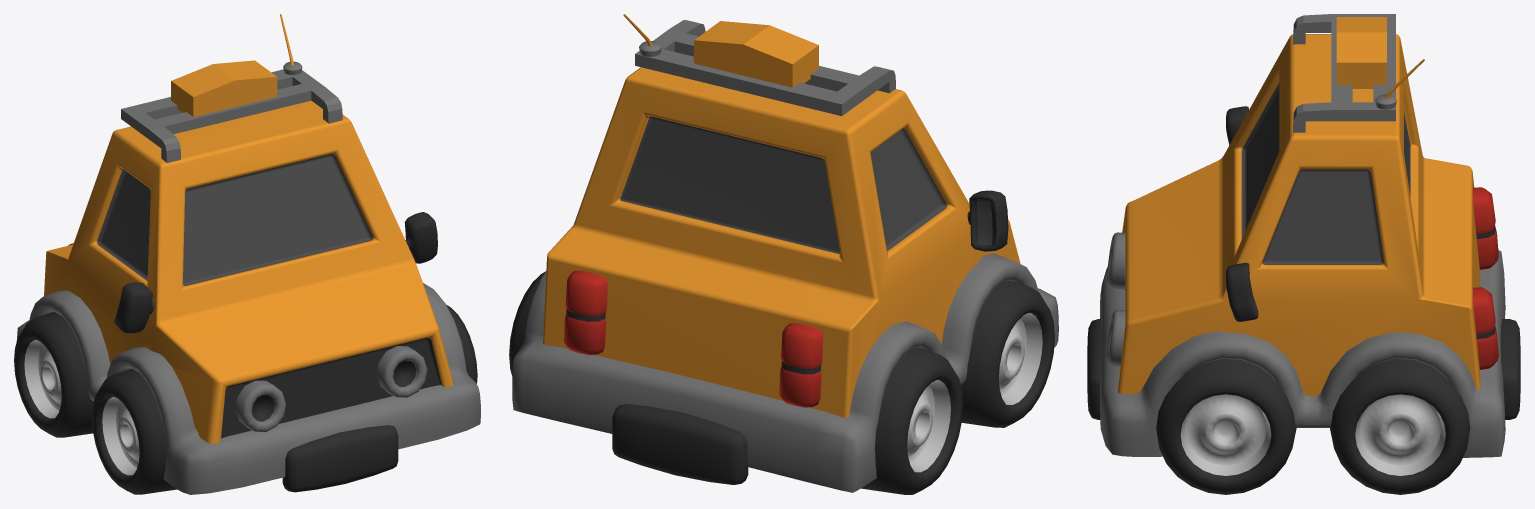
File: Sm_Car.fbx
The picture shows the model from 3 angles, left to right: view 1: azimuth 30°, elevation 25°; view 2: azimuth 150°, elevation 25°; view 3: azimuth 270°, elevation 25°; orthographic projection. The views are drawn at different scales.
Visible parts, largest first — view 1: Sm_Car; view 2: Sm_Car; view 3: Sm_Car.
Part boxes in pixels (left/top/right/bottom): Sm_Car: left=14, top=14, right=480, bottom=494; Sm_Car: left=509, top=14, right=1058, bottom=494; Sm_Car: left=1087, top=14, right=1520, bottom=494.
Bounding box in the file's own units: 101 × 102 × 101.
